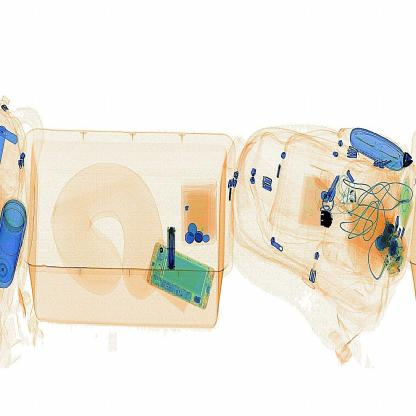scissors: (164, 218, 183, 264)
